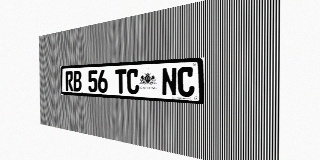5: (88, 70, 98, 92)
6: (98, 70, 108, 93)
B: (73, 71, 82, 92)
C: (178, 67, 195, 97), (127, 69, 139, 94)
N: (162, 67, 177, 96)
R: (65, 71, 73, 91)
T: (115, 69, 127, 94)
